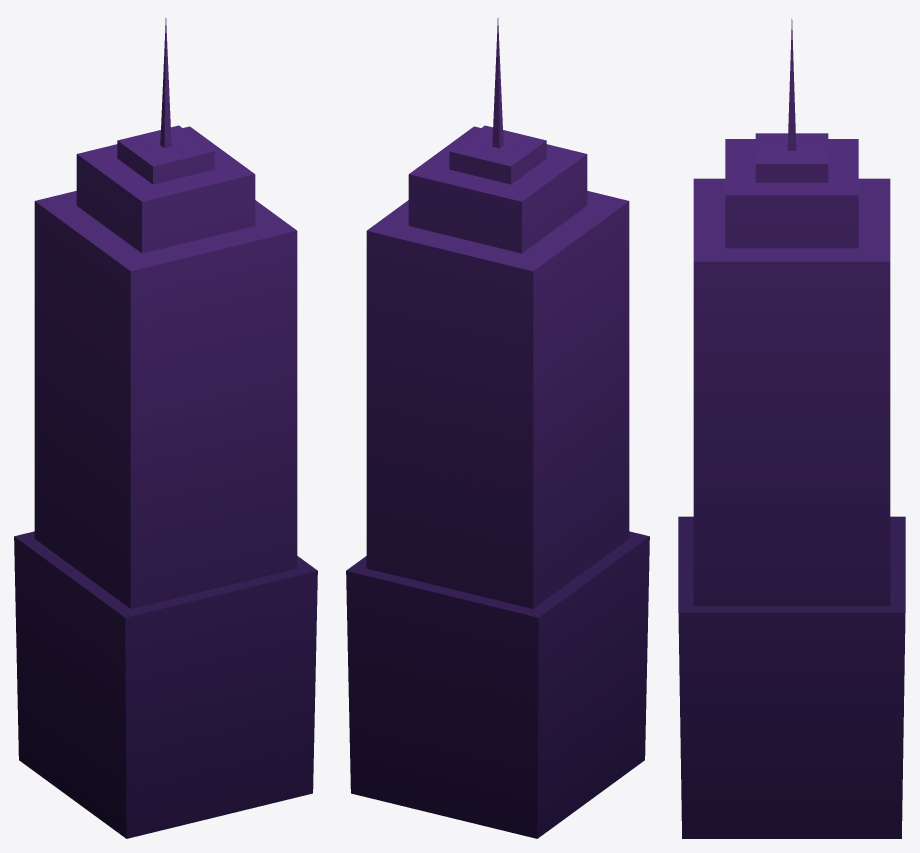
Rendered from FBX_Building_004.fbx.
The picture shows the model from 3 angles, left to right: view 1: azimuth 30°, elevation 25°; view 2: azimuth 150°, elevation 25°; view 3: azimuth 270°, elevation 25°; orthographic projection. The views are drawn at different scales.
Parts seen in each view (by area): view 1: Cube; view 2: Cube; view 3: Cube.
Boxes of the visible parts, x1,y1,x2,y2 form: Cube: (14, 18, 317, 838); Cube: (346, 17, 649, 838); Cube: (678, 19, 905, 838).
Size of the model in its own units: 290 by 1096 by 290.
Materials: 1 (1 with a texture image).
